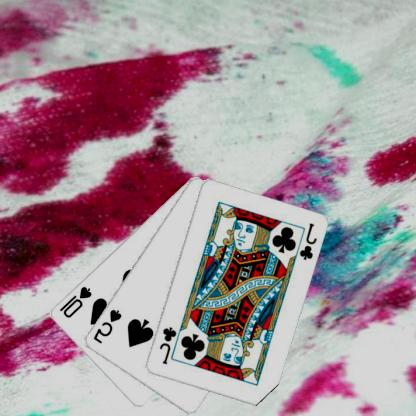10S: (57, 284, 94, 320)
5S: (92, 307, 124, 344)
JC: (298, 220, 320, 262), (158, 324, 179, 366)
